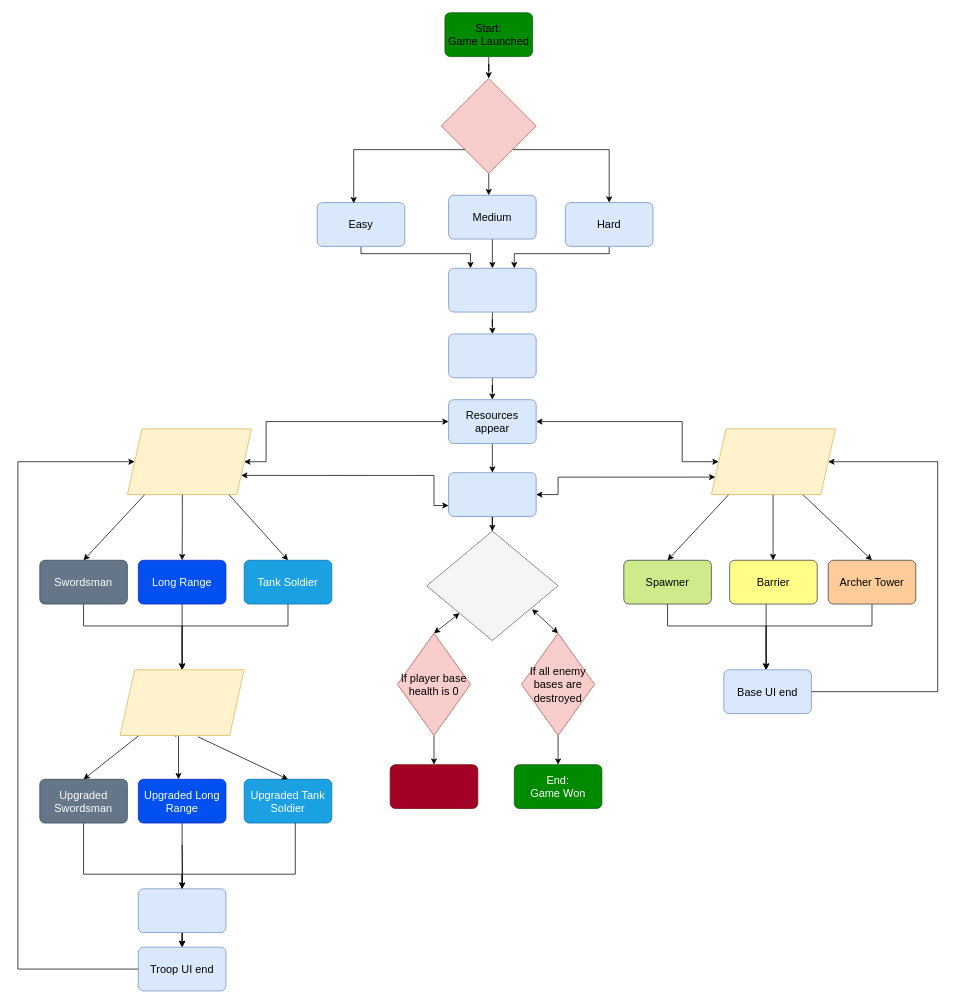
The diagram is 956 pixels wide and 1004 high, and some of its shapes have lost their labels. The box of each missing label's shape, as (x1, y1, x2, y2) in pixels:
Base component building UI: (711, 428, 835, 495)
Base health checker: (426, 530, 558, 641)
Build base: (448, 472, 536, 516)
End: Game Lost: (389, 764, 478, 808)
Game difficulty selection: (441, 78, 536, 173)
Game starts: (448, 268, 536, 312)
Loaded map, resources, player and enemy starter bases: (448, 333, 536, 378)
Spawn troops: (138, 888, 226, 933)
Troop Crafting UI: (127, 428, 251, 495)
Upgrade troops: (119, 669, 244, 735)
